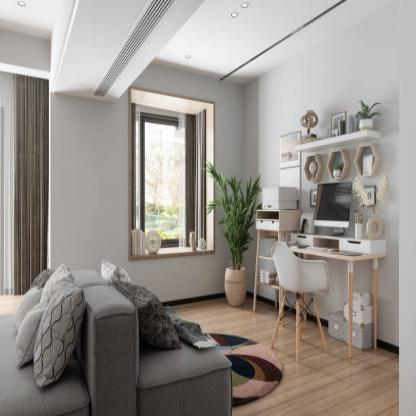Window: (131, 88, 217, 258)
